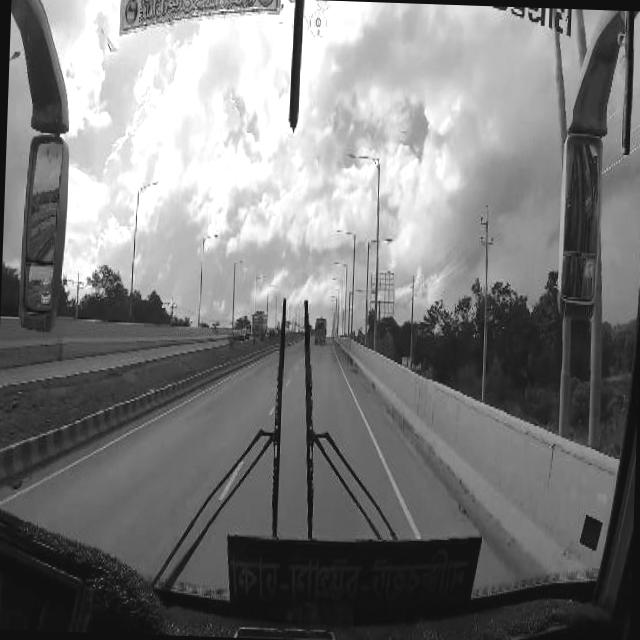bus: (252, 310, 268, 336), (315, 316, 328, 342)
truck: (232, 318, 252, 339)
